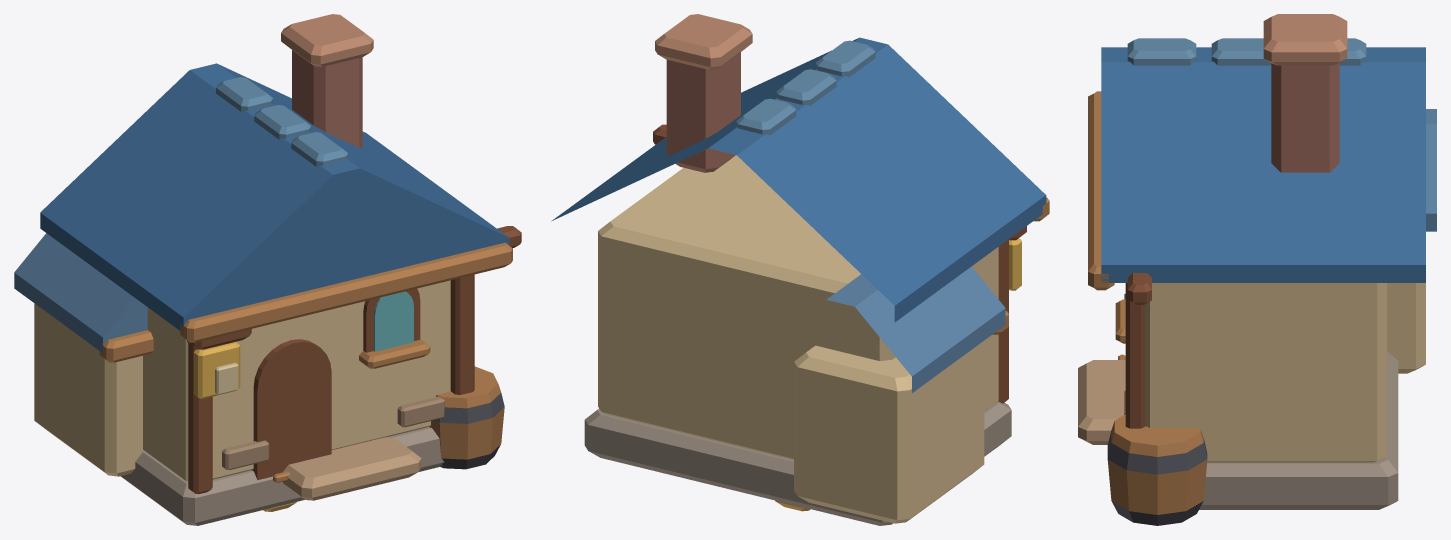
File: inn.glb
The picture shows the model from 3 angles, left to right: view 1: azimuth 30°, elevation 25°; view 2: azimuth 150°, elevation 25°; view 3: azimuth 270°, elevation 25°; orthographic projection. The views are drawn at different scales.
Visible parts, largest first — view 1: Base, Upgrade2, Upgrade3; view 2: Base, Upgrade2, Upgrade3; view 3: Base, Upgrade2, Upgrade3.
Part boxes in pixels (x1=…): Base: x1=40, y1=63, x2=512, y2=525; Upgrade2: x1=14, y1=233, x2=504, y2=476; Upgrade3: x1=281, y1=14, x2=521, y2=248; Base: x1=551, y1=37, x2=1049, y2=525; Upgrade2: x1=794, y1=266, x2=1008, y2=523; Upgrade3: x1=653, y1=14, x2=752, y2=172; Base: x1=1078, y1=38, x2=1425, y2=509; Upgrade2: x1=1107, y1=109, x2=1436, y2=525; Upgrade3: x1=1127, y1=14, x2=1347, y2=304.
Bounding box in the file's own units: 2.21 × 2.52 × 1.62.
